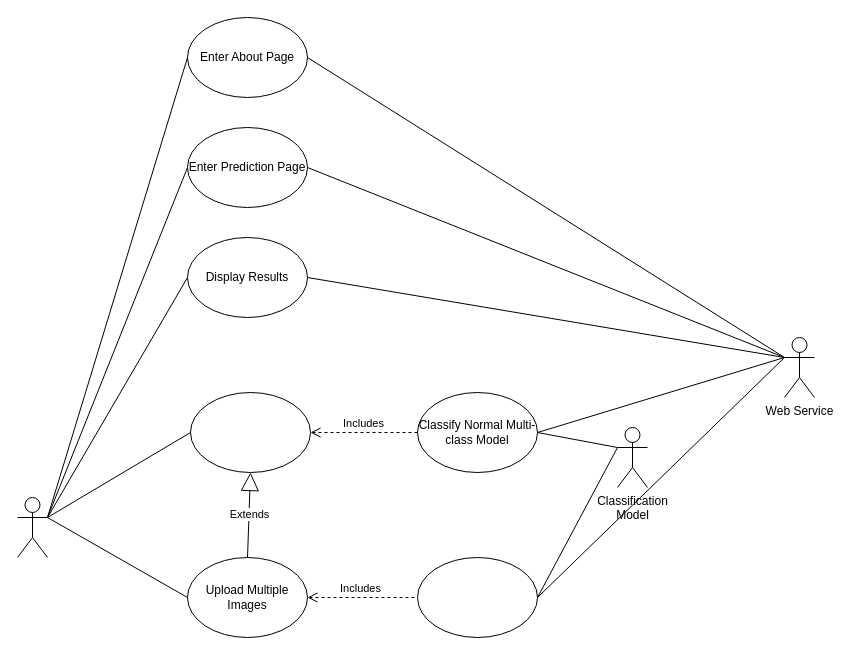
Image size: 851x655. Some labels were removed from this diagram. Each missing label, with the box of its shape:
Classify Recurrent Multi-class Model: (416, 556, 538, 638)
Upload Single Image: (190, 392, 310, 472)
User: (16, 496, 48, 558)
